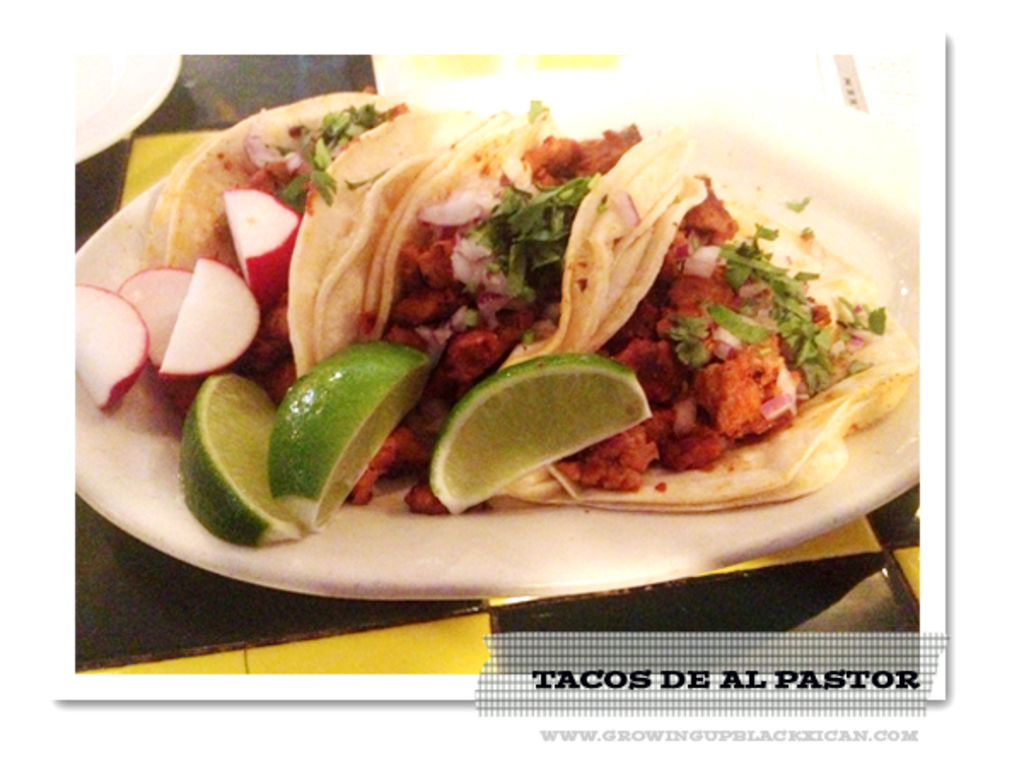taco: (500, 167, 918, 514), (143, 75, 440, 418), (348, 108, 628, 451)
